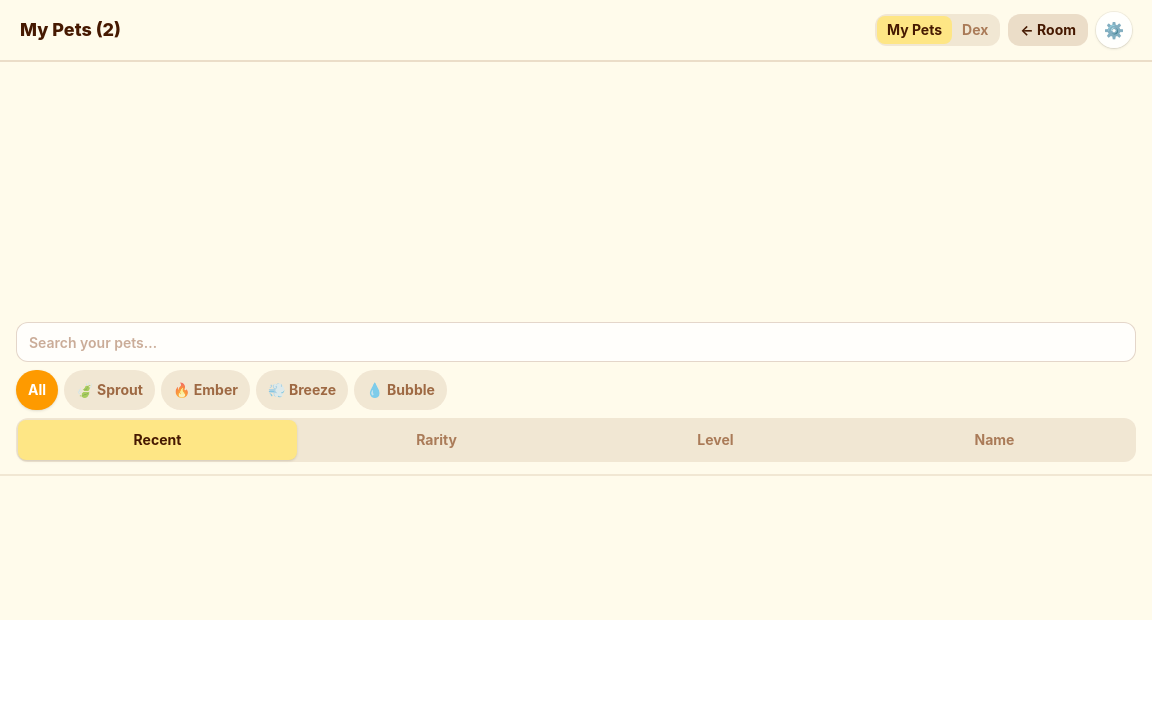
Test: Collection — My Pets redesign (hero / stats / controls / pan roster) › element chip filters the roster
# Filter to fire only.
What coordinates should you click on to do the following:
click the button "🔥 Ember"
I would click on:
 (205, 390)
Its box is 161,370 -> 250,410.
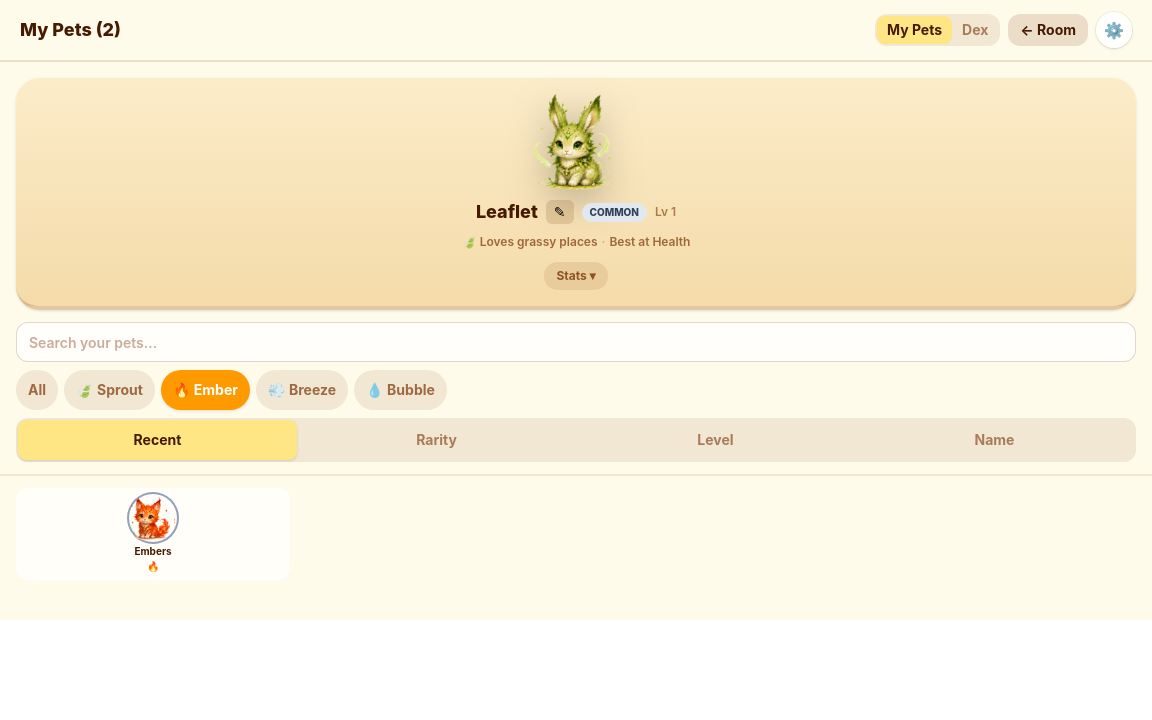
Expected: the button with aria-label "raise embers" is shown, 16,488 -> 290,580
